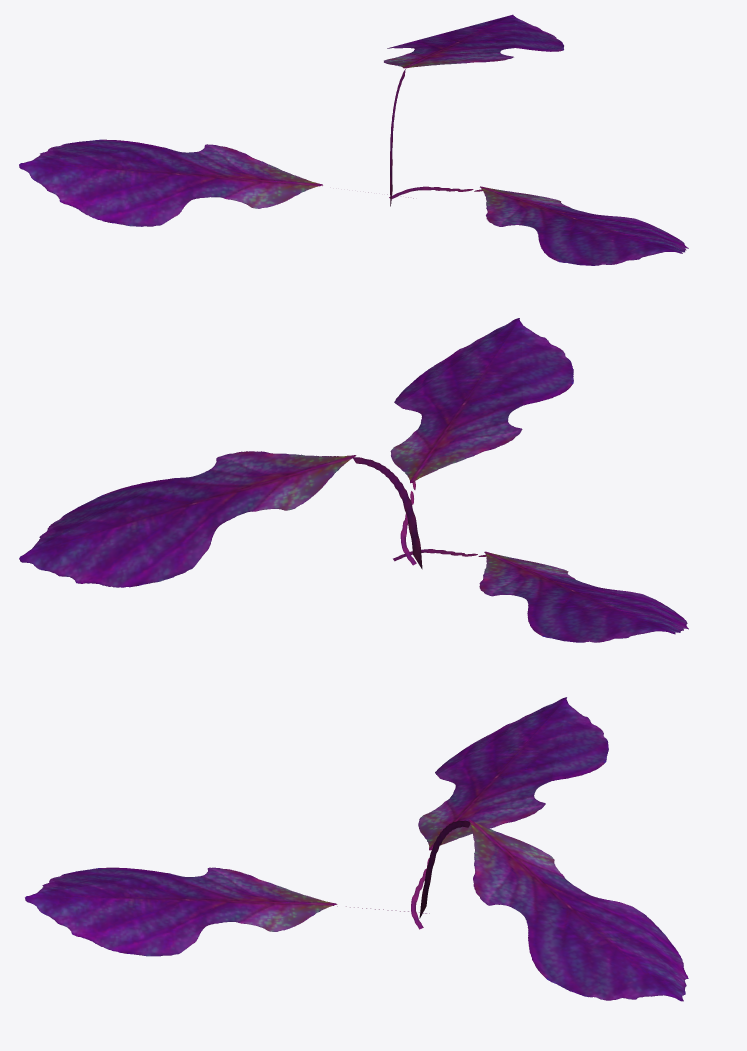
The model's file is Row Root C1.fbx.
3 renders of one model, top to bottom at view 1: azimuth 30°, elevation 25°; view 2: azimuth 150°, elevation 25°; view 3: azimuth 270°, elevation 25°, orthographic. The views are drawn at different scales.
Visible parts, largest first — view 1: Row Root C1; view 2: Row Root C1; view 3: Row Root C1.
Boxes of the visible parts, x1,y1,x2,y2 form: Row Root C1: [19, 14, 688, 265]; Row Root C1: [19, 318, 688, 642]; Row Root C1: [25, 697, 688, 1001].
Bounding box in the file's own units: 181 × 39 × 173.
